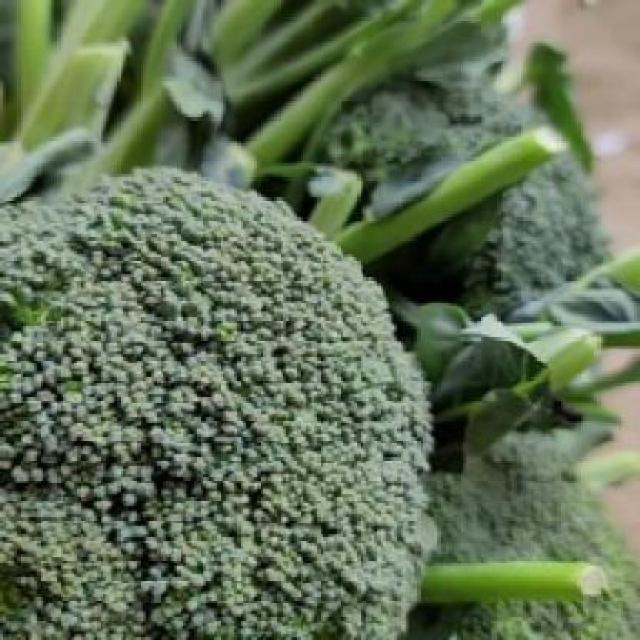broccoli: (11, 157, 427, 637), (302, 48, 613, 340), (412, 408, 638, 638)
